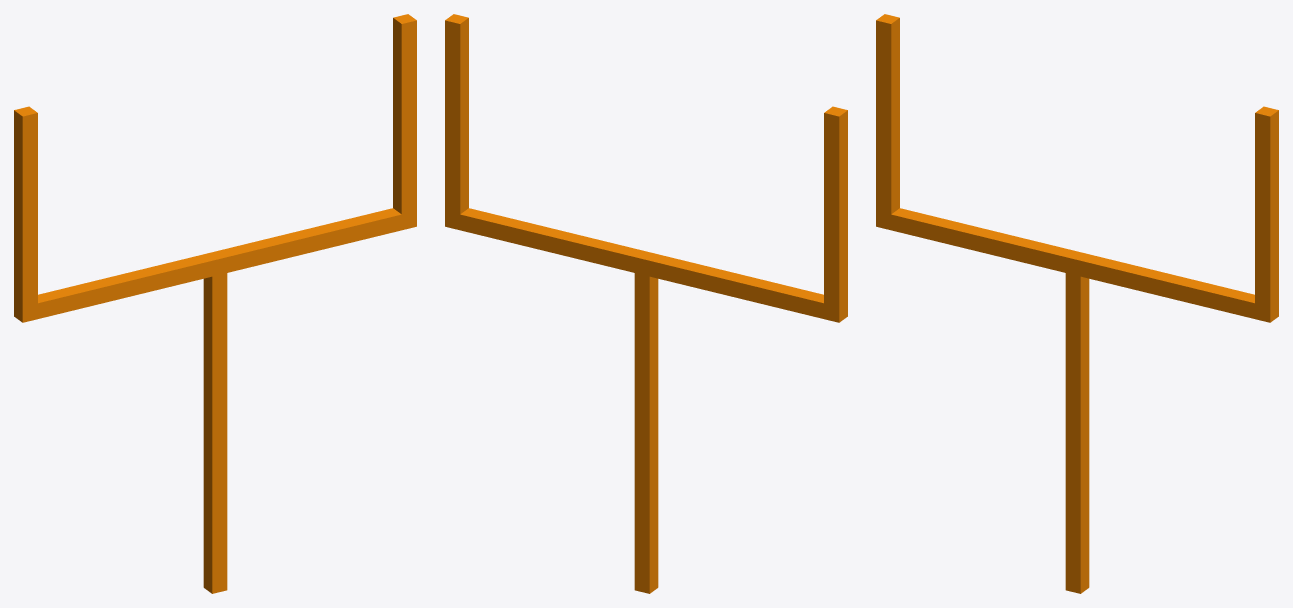
3 renders of one model, left to right at view 1: azimuth 30°, elevation 25°; view 2: azimuth 150°, elevation 25°; view 3: azimuth 330°, elevation 25°, orthographic.
Parts seen in each view (by area): view 1: group_0, group_1; view 2: group_0, group_1; view 3: group_0, group_1.
Boxes of the visible parts, x1,y1,x2,y2 form: group_0: (14,14,416,322); group_1: (203,273,227,593); group_0: (445,14,847,322); group_1: (634,273,658,593); group_0: (876,14,1278,322); group_1: (1065,273,1089,593).
Size of the model in its own units: 51.18 by 1.97 by 64.96.
